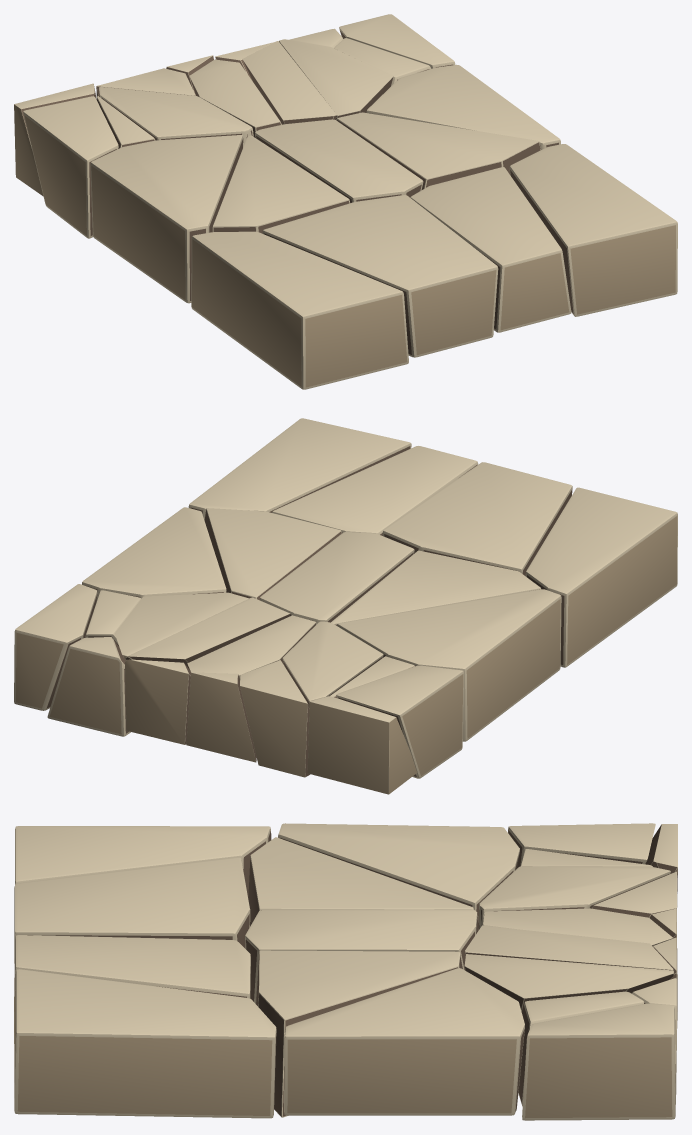
Rendered from T11_CrumbleSlab.fbx.
The picture shows the model from 3 angles, top to bottom: view 1: azimuth 30°, elevation 25°; view 2: azimuth 150°, elevation 25°; view 3: azimuth 270°, elevation 25°; orthographic projection. The views are drawn at different scales.
Parts seen in each view (by area): view 1: Chunk_18.003, Chunk_19.002, Chunk_21.002, Chunk_13.003, Chunk_20.002, Chunk_00.003, Chunk_16.003, Chunk_17.003, Chunk_15.003, Chunk_14.003, Chunk_02.003, Chunk_06.003 (+8 smaller); view 2: Chunk_18.003, Chunk_13.003, Chunk_19.002, Chunk_21.002, Chunk_20.002, Chunk_09.003, Chunk_17.003, Chunk_16.003, Chunk_00.003, Chunk_15.003, Chunk_14.003, Chunk_08.003 (+10 smaller); view 3: Chunk_21.002, Chunk_17.003, Chunk_08.003, Chunk_19.002, Chunk_13.003, Chunk_18.003, Chunk_20.002, Chunk_16.003, Chunk_15.003, Chunk_14.003, Chunk_06.003, Chunk_02.003 (+10 smaller).
Boxes of the visible parts, x1,y1,x2,y2 form: Chunk_18.003: (191,231,408,389); Chunk_19.002: (262,195,498,357); Chunk_21.002: (509,144,677,316); Chunk_13.003: (90,135,243,303); Chunk_20.002: (410,167,571,332); Chunk_00.003: (23,96,118,238); Chunk_16.003: (336,112,540,189); Chunk_17.003: (366,64,560,149); Chunk_15.003: (255,119,423,202); Chunk_14.003: (212,135,349,233); Chunk_02.003: (99,87,253,147); Chunk_06.003: (279,39,393,119); Chunk_18.003: (525,487,677,667); Chunk_13.003: (337,589,561,741); Chunk_19.002: (382,462,572,575); Chunk_21.002: (188,418,411,520); Chunk_20.002: (272,446,478,535); Chunk_09.003: (307,696,417,794); Chunk_17.003: (82,507,226,602); Chunk_16.003: (204,508,341,600); Chunk_00.003: (336,665,463,778); Chunk_15.003: (260,532,414,624); Chunk_14.003: (331,550,540,625); Chunk_08.003: (14,584,97,710); Chunk_21.002: (14,969,276,1118); Chunk_17.003: (284,968,524,1115); Chunk_08.003: (522,1003,675,1120); Chunk_19.002: (14,857,250,963); Chunk_13.003: (278,823,519,932); Chunk_18.003: (15,826,271,897); Chunk_20.002: (14,935,250,1043); Chunk_16.003: (256,950,462,1117); Chunk_15.003: (245,909,477,1003); Chunk_14.003: (248,837,473,926); Chunk_06.003: (464,954,673,1012); Chunk_02.003: (478,866,670,930).
Bounding box in the file's own units: 3 × 0.6486 × 3.97.
